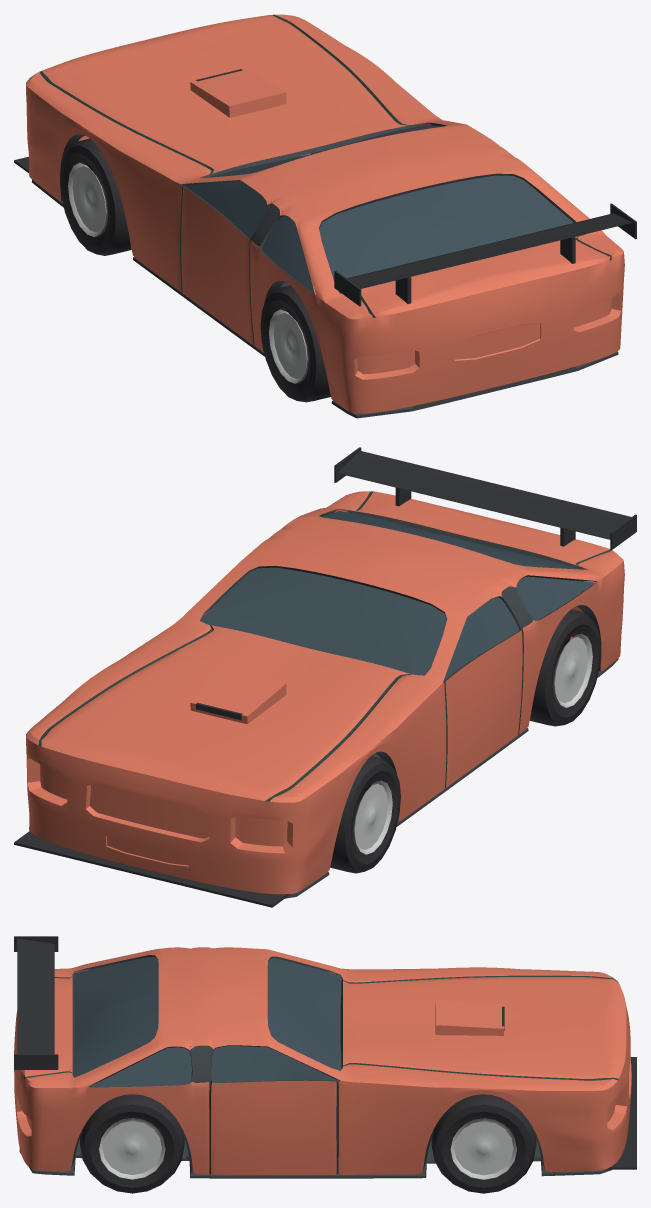
Rendered from forge_closed_gt_lod2.fbx.
3 views of the same model, one above another, from view 1: azimuth 30°, elevation 25°; view 2: azimuth 150°, elevation 25°; view 3: azimuth 270°, elevation 25° (orthographic). The views are drawn at different scales.
Parts seen in each view (by area): view 1: Body, Wheel_FL_Mesh, Wheel_RL_Mesh; view 2: Body, Wheel_RL_Mesh, Wheel_FL_Mesh; view 3: Body, Wheel_FR_Mesh, Wheel_RR_Mesh.
Boxes of the visible parts, left/top/right/bottom form: Body: left=14, top=14, right=636, bottom=418; Wheel_FL_Mesh: left=60, top=138, right=131, bottom=255; Wheel_RL_Mesh: left=260, top=285, right=330, bottom=402; Body: left=14, top=447, right=636, bottom=907; Wheel_RL_Mesh: left=530, top=609, right=601, bottom=726; Wheel_FL_Mesh: left=330, top=756, right=400, bottom=873; Body: left=14, top=936, right=636, bottom=1178; Wheel_FR_Mesh: left=431, top=1094, right=536, bottom=1193; Wheel_RR_Mesh: left=80, top=1086, right=184, bottom=1193.
Size of the model in its own units: 178 by 100 by 381.
